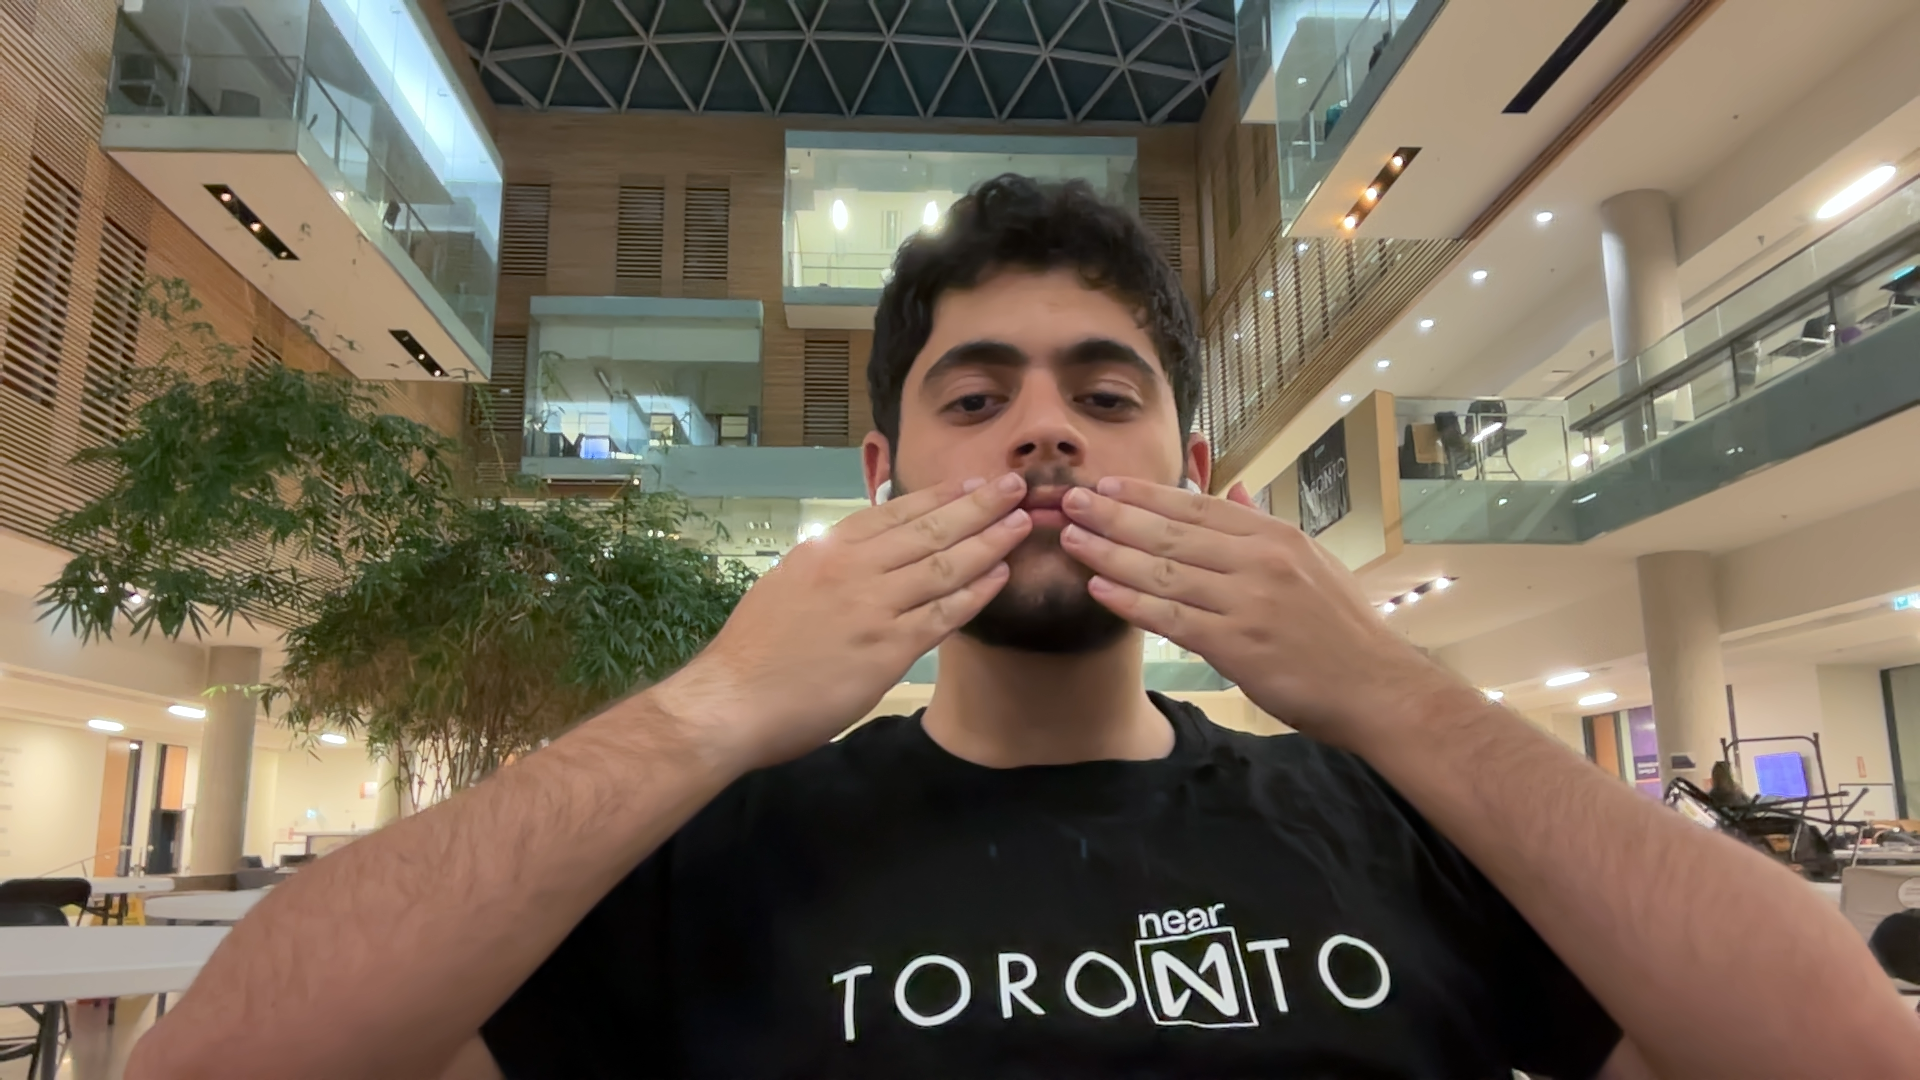thank you: (876, 135, 1381, 712), (679, 175, 1189, 696)
